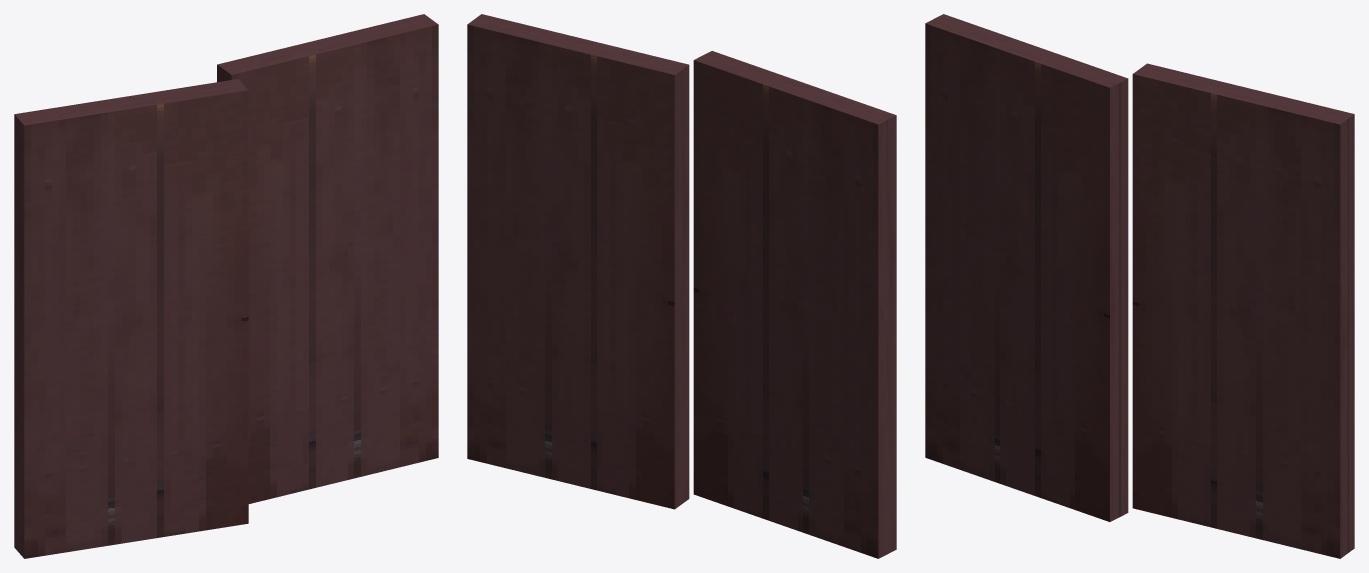
The model's file is shutters_small_single_closed_02.glb.
3 views of the same model, side by side, from view 1: azimuth 30°, elevation 25°; view 2: azimuth 150°, elevation 25°; view 3: azimuth 330°, elevation 25° (orthographic).
Parts seen in each view (by area): view 1: shutters_small_single_closed_022; view 2: shutters_small_single_closed_022; view 3: shutters_small_single_closed_022.
Boxes of the visible parts, <box> form: shutters_small_single_closed_022: <box>14,14,438,558</box>; shutters_small_single_closed_022: <box>467,14,896,558</box>; shutters_small_single_closed_022: <box>925,14,1354,558</box>.
Bounding box in the file's own units: 1 × 1 × 0.1431.
1 material, 1 textured.
